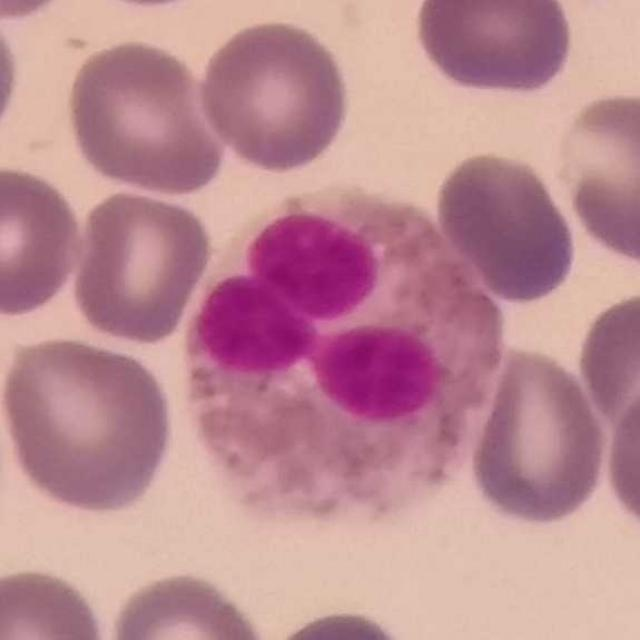eosino: (172, 178, 502, 520)
